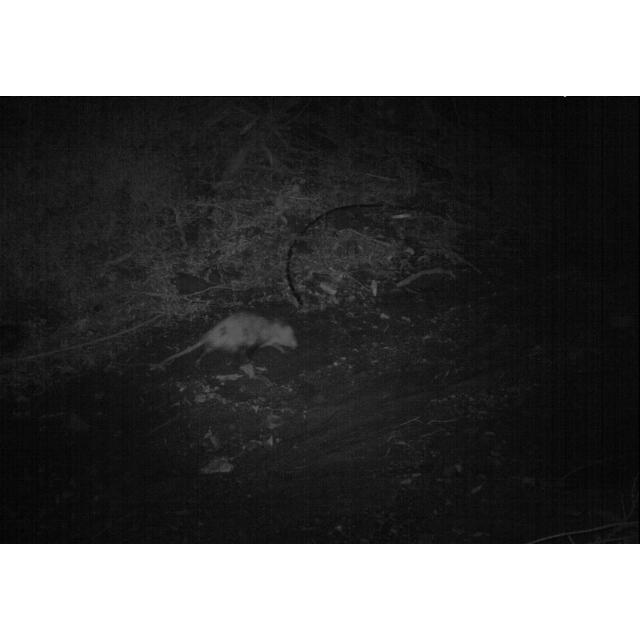animals: (166, 312, 298, 363)
